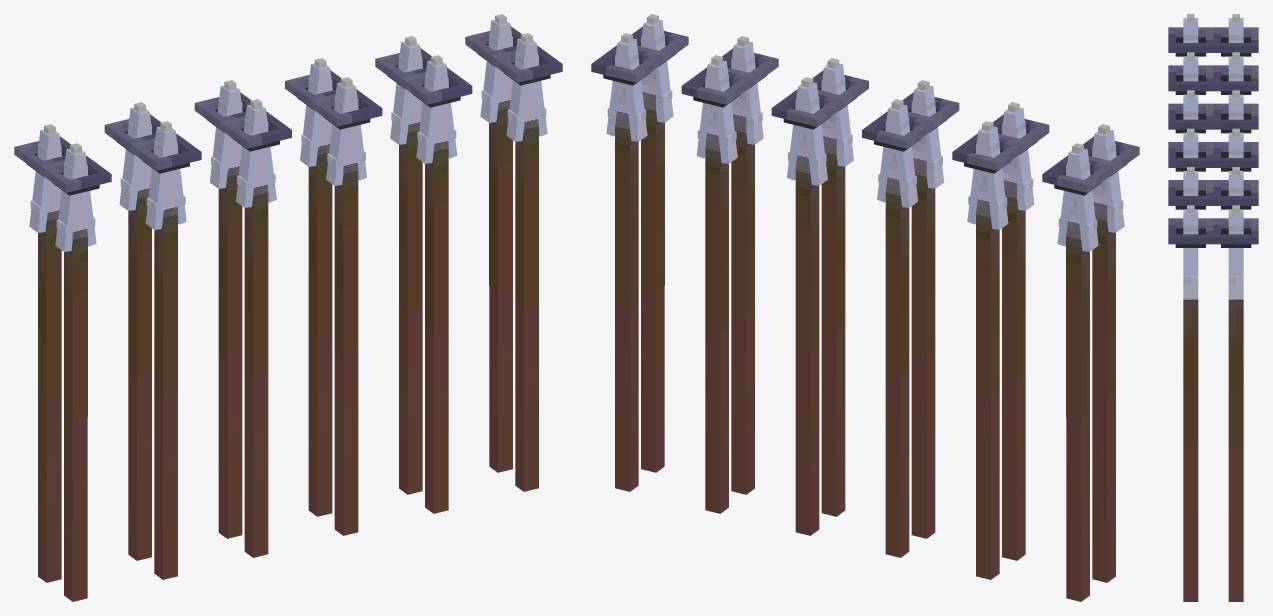
The model's file is trap-19_3.glb.
3 renders of one model, left to right at view 1: azimuth 30°, elevation 25°; view 2: azimuth 150°, elevation 25°; view 3: azimuth 270°, elevation 25°, orthographic. The views are drawn at different scales.
Visible parts, largest first — view 1: Base$$1-Local; view 2: Base$$1-Local; view 3: Base$$1-Local.
Part boxes in pixels (x1=…): Base$$1-Local: x1=14, y1=14, x2=562, y2=601; Base$$1-Local: x1=591, y1=14, x2=1139, y2=601; Base$$1-Local: x1=1168, y1=14, x2=1258, y2=601.
Size of the model in its own units: 5.5 by 4.78 by 1.
5 materials, 5 textured.
